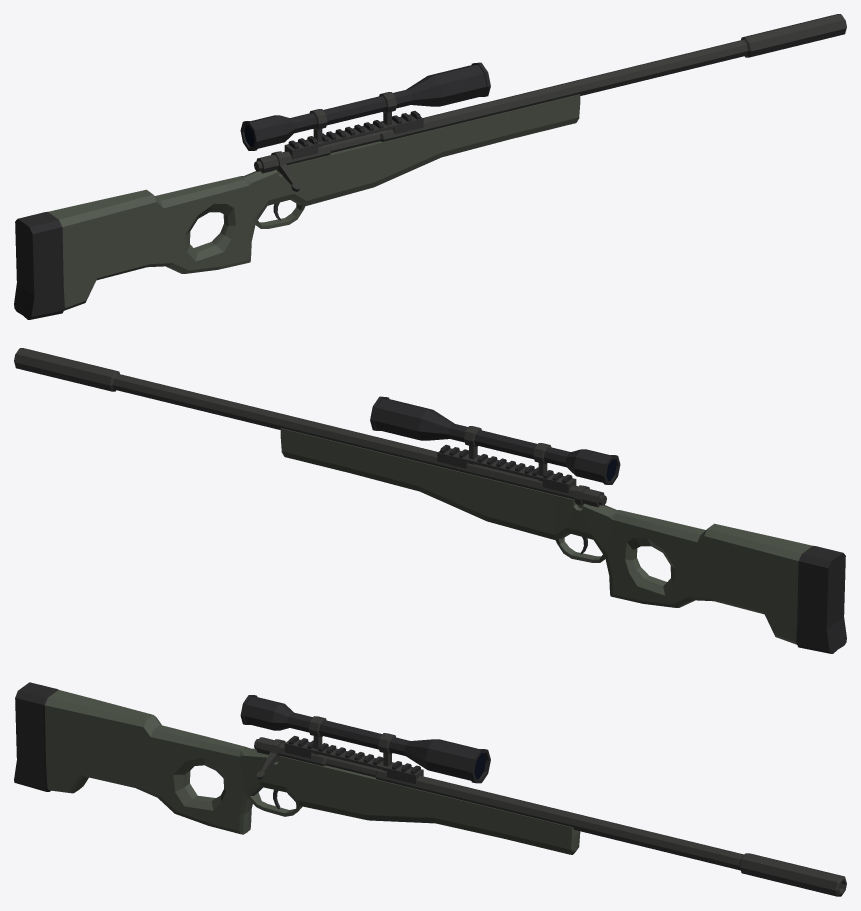
Rendered from awp.glb.
3 views of the same model, one above another, from view 1: azimuth 30°, elevation 25°; view 2: azimuth 150°, elevation 25°; view 3: azimuth 330°, elevation 25° (orthographic).
Parts seen in each view (by area): view 1: SniperRifle_3_Cylinder.034; view 2: SniperRifle_3_Cylinder.034; view 3: SniperRifle_3_Cylinder.034.
Boxes of the visible parts, x1,y1,x2,y2 form: SniperRifle_3_Cylinder.034: (14, 14, 846, 319); SniperRifle_3_Cylinder.034: (14, 348, 846, 653); SniperRifle_3_Cylinder.034: (14, 682, 846, 896).
Size of the model in its own units: 7.24 by 1.2 by 0.4457.
Materials: 1 (1 with a texture image).
